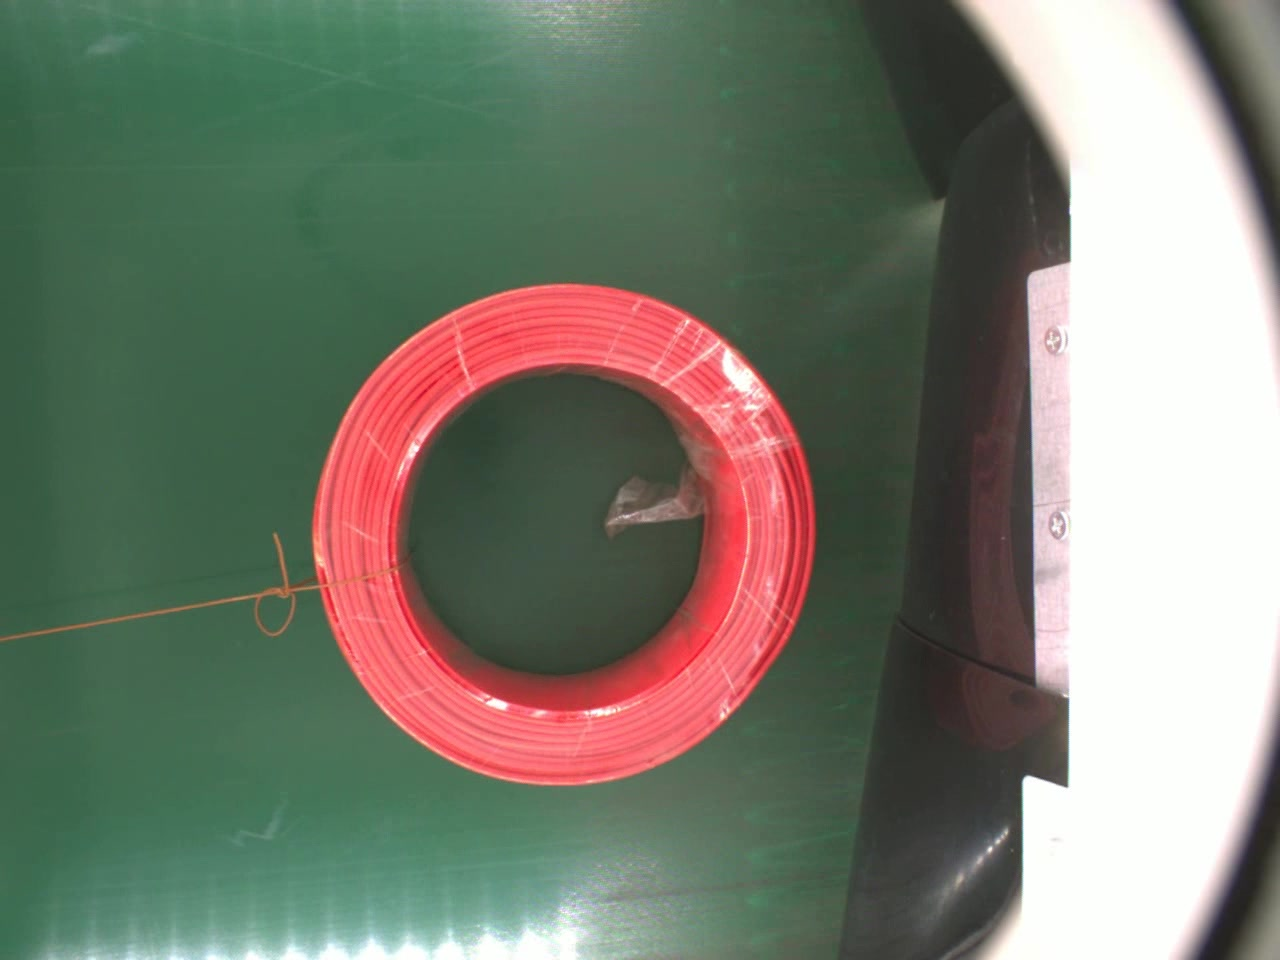red: (309, 275, 817, 790)
